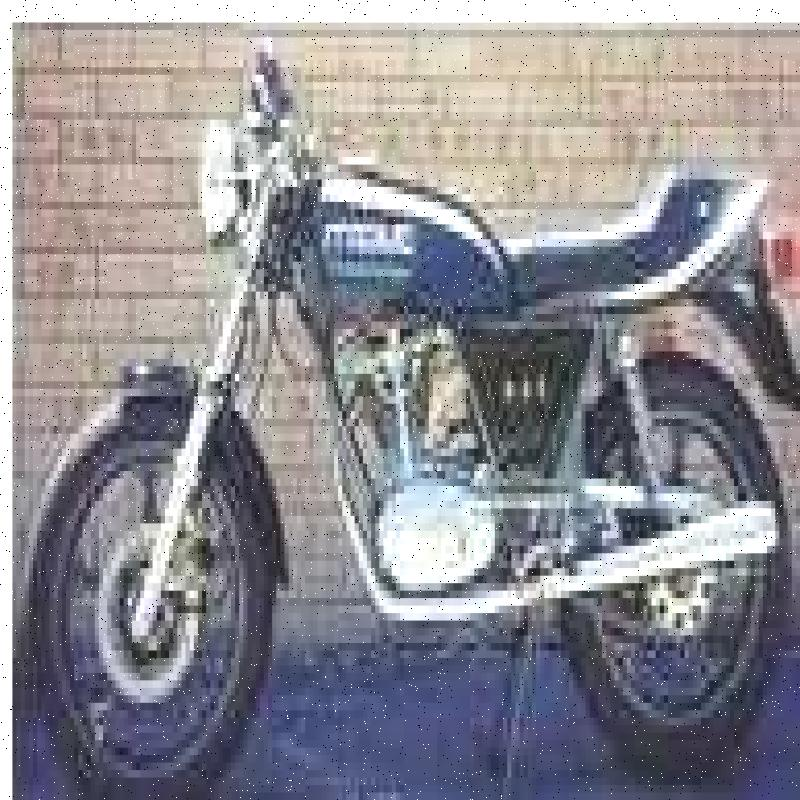bike: (0, 25, 792, 800)
